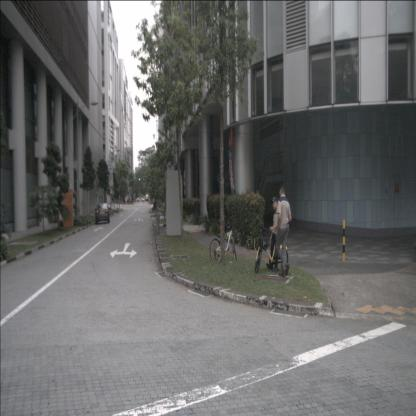human-pedestrian-adult: (275, 186, 291, 277), (266, 196, 280, 273)
vehicle-bicycle: (254, 197, 288, 274), (209, 215, 237, 264)
vehicle-car: (95, 203, 110, 223), (137, 196, 145, 203)
